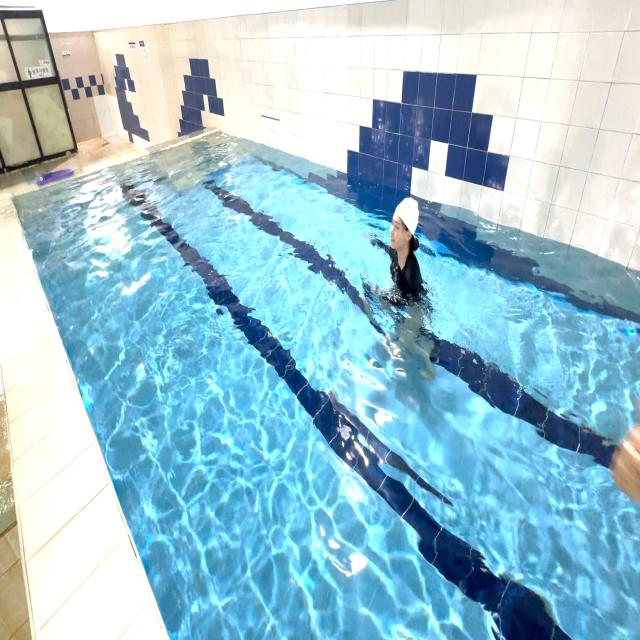Swimming: (360, 193, 435, 381)
